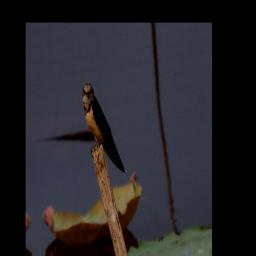Swallow: (81, 76, 126, 184)
